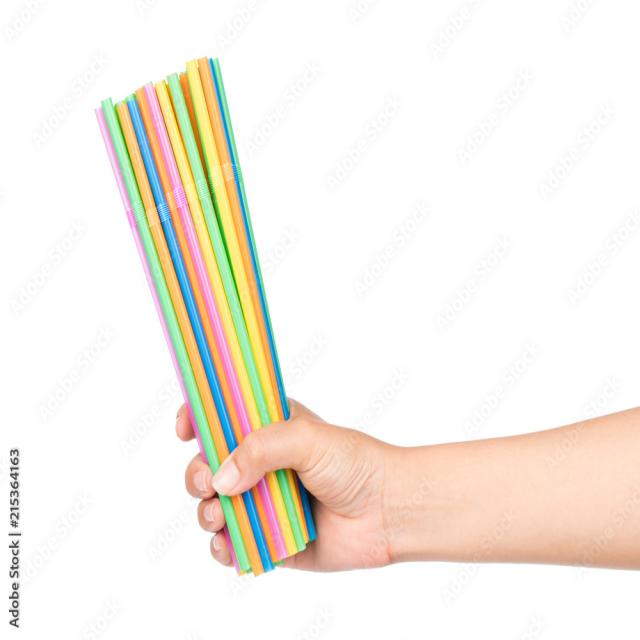plastic: (182, 55, 216, 388)
